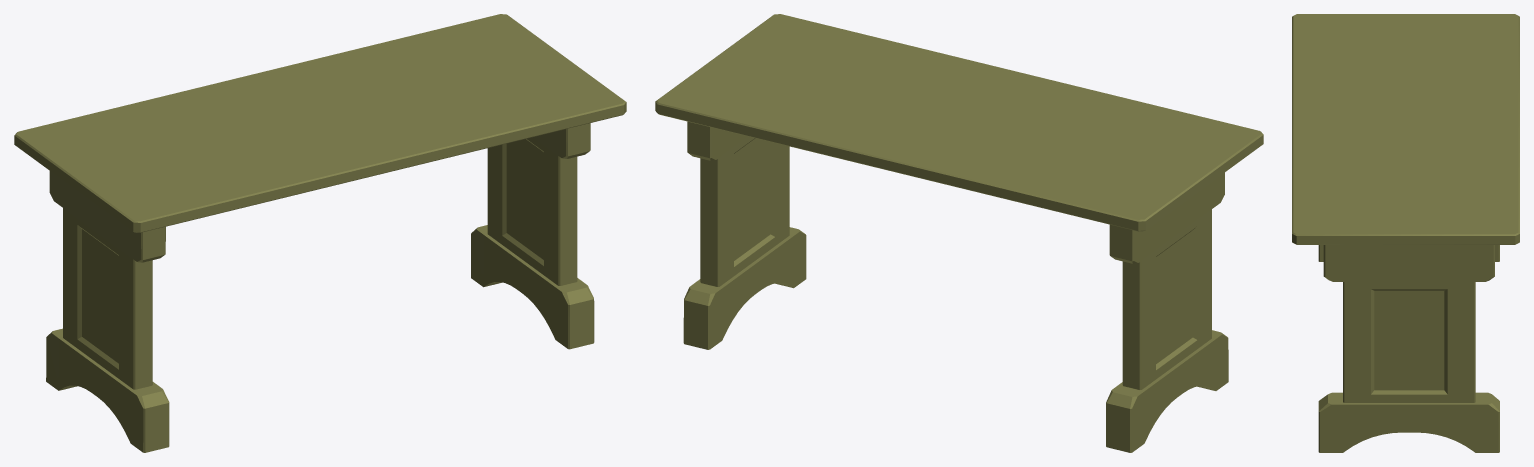
File: Desk.fbx
3 renders of one model, left to right at view 1: azimuth 30°, elevation 25°; view 2: azimuth 150°, elevation 25°; view 3: azimuth 270°, elevation 25°, orthographic. The views are drawn at different scales.
Visible parts, largest first — view 1: Desk; view 2: Desk; view 3: Desk.
Part boxes in pixels (<box>): Desk: <box>14,14,626,452</box>; Desk: <box>655,14,1263,452</box>; Desk: <box>1292,14,1519,452</box>.
Bounding box in the file's own units: 155 × 74.12 × 67.48.
